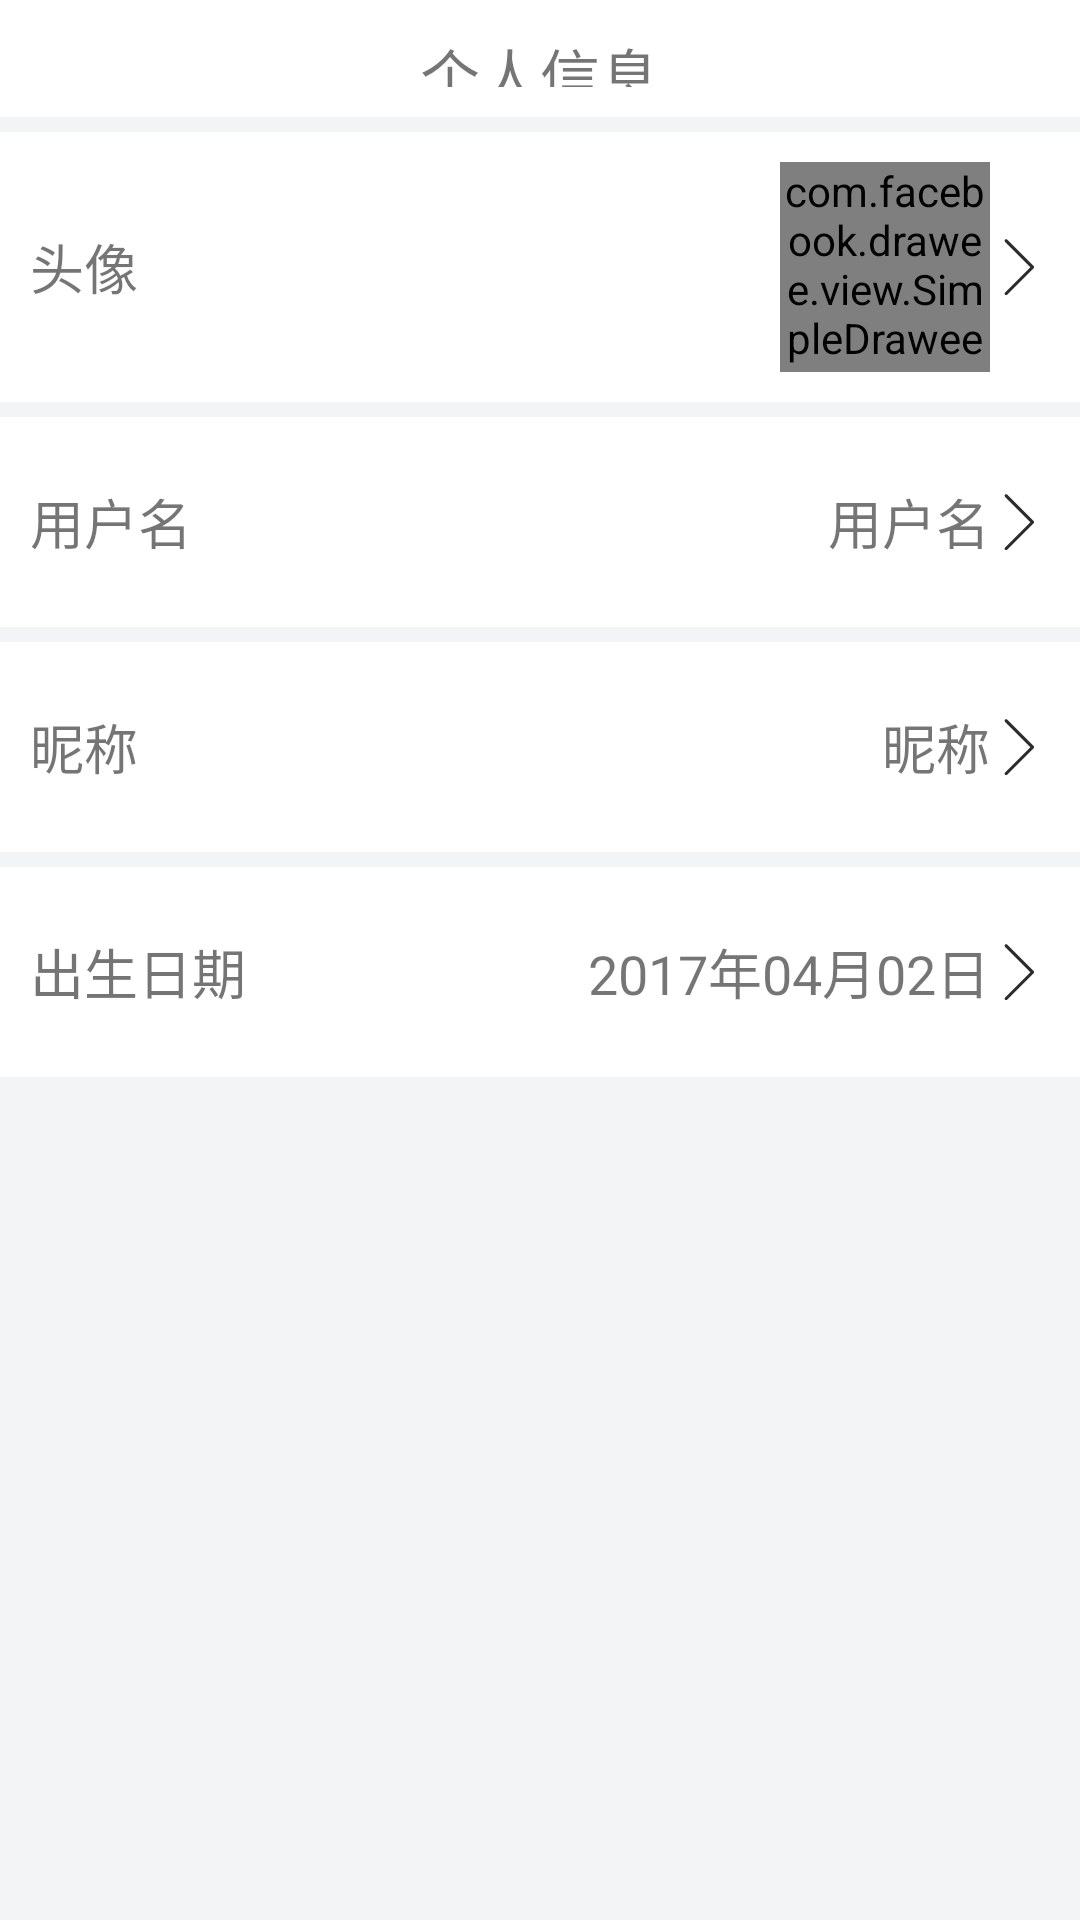

Point at icon controls on the screen. Image size 1080px x 1920px, points as [x,y].
icmore: [1019,267], [1019,522], [1019,747], [1019,972]
